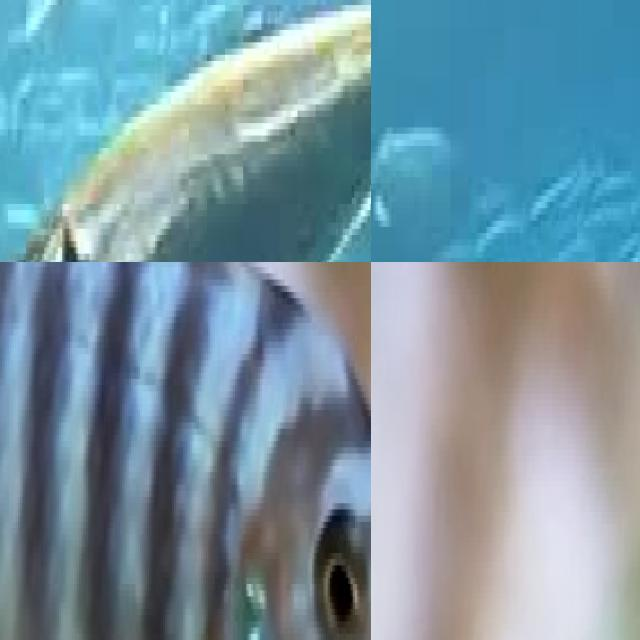fish: (0, 0, 371, 262)
